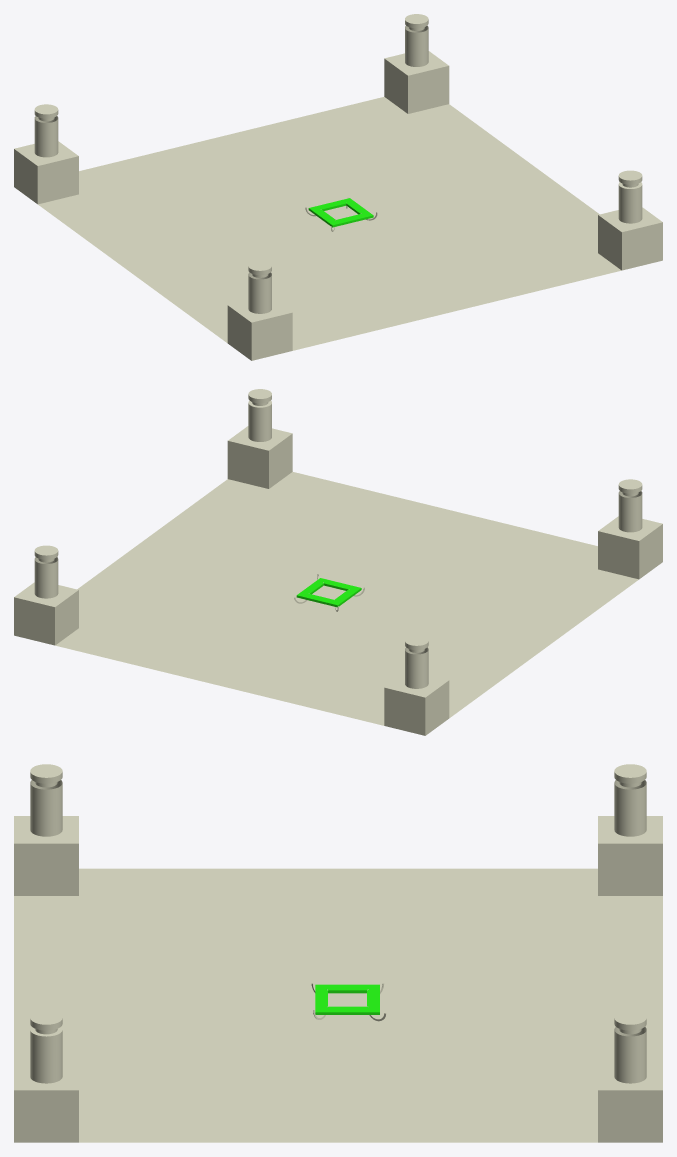
The picture shows the model from 3 angles, top to bottom: view 1: azimuth 30°, elevation 25°; view 2: azimuth 150°, elevation 25°; view 3: azimuth 270°, elevation 25°; orthographic projection. The views are drawn at different scales.
Parts seen in each view (by area): view 1: SketchUp (×6); view 2: SketchUp (×6); view 3: SketchUp (×6).
Part boxes in pixels (left/top/right/bottom): SketchUp (×6): left=14, top=25, right=662, bottom=360; SketchUp (×6): left=14, top=400, right=662, bottom=735; SketchUp (×6): left=14, top=780, right=662, bottom=1142.
Bounding box in the file's own units: 39.37 × 39.37 × 7.44.
